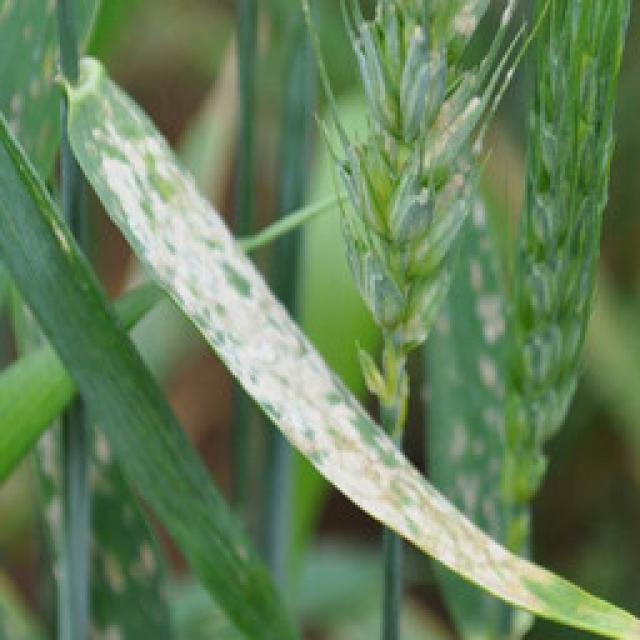wheat-powdery-mildew: (58, 55, 640, 640), (30, 408, 170, 640), (422, 190, 505, 542)
